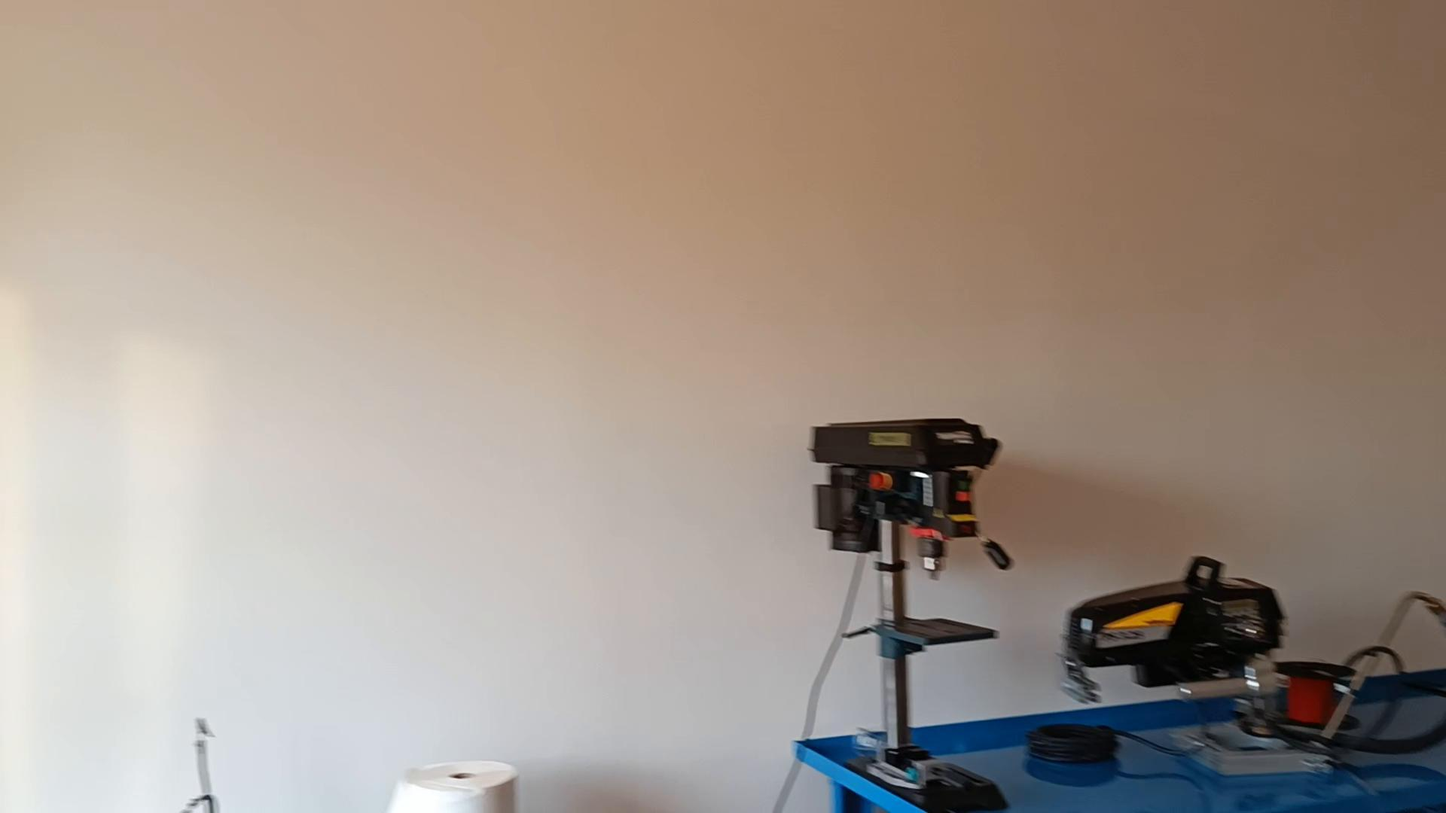wall: (0, 3, 1445, 812)
